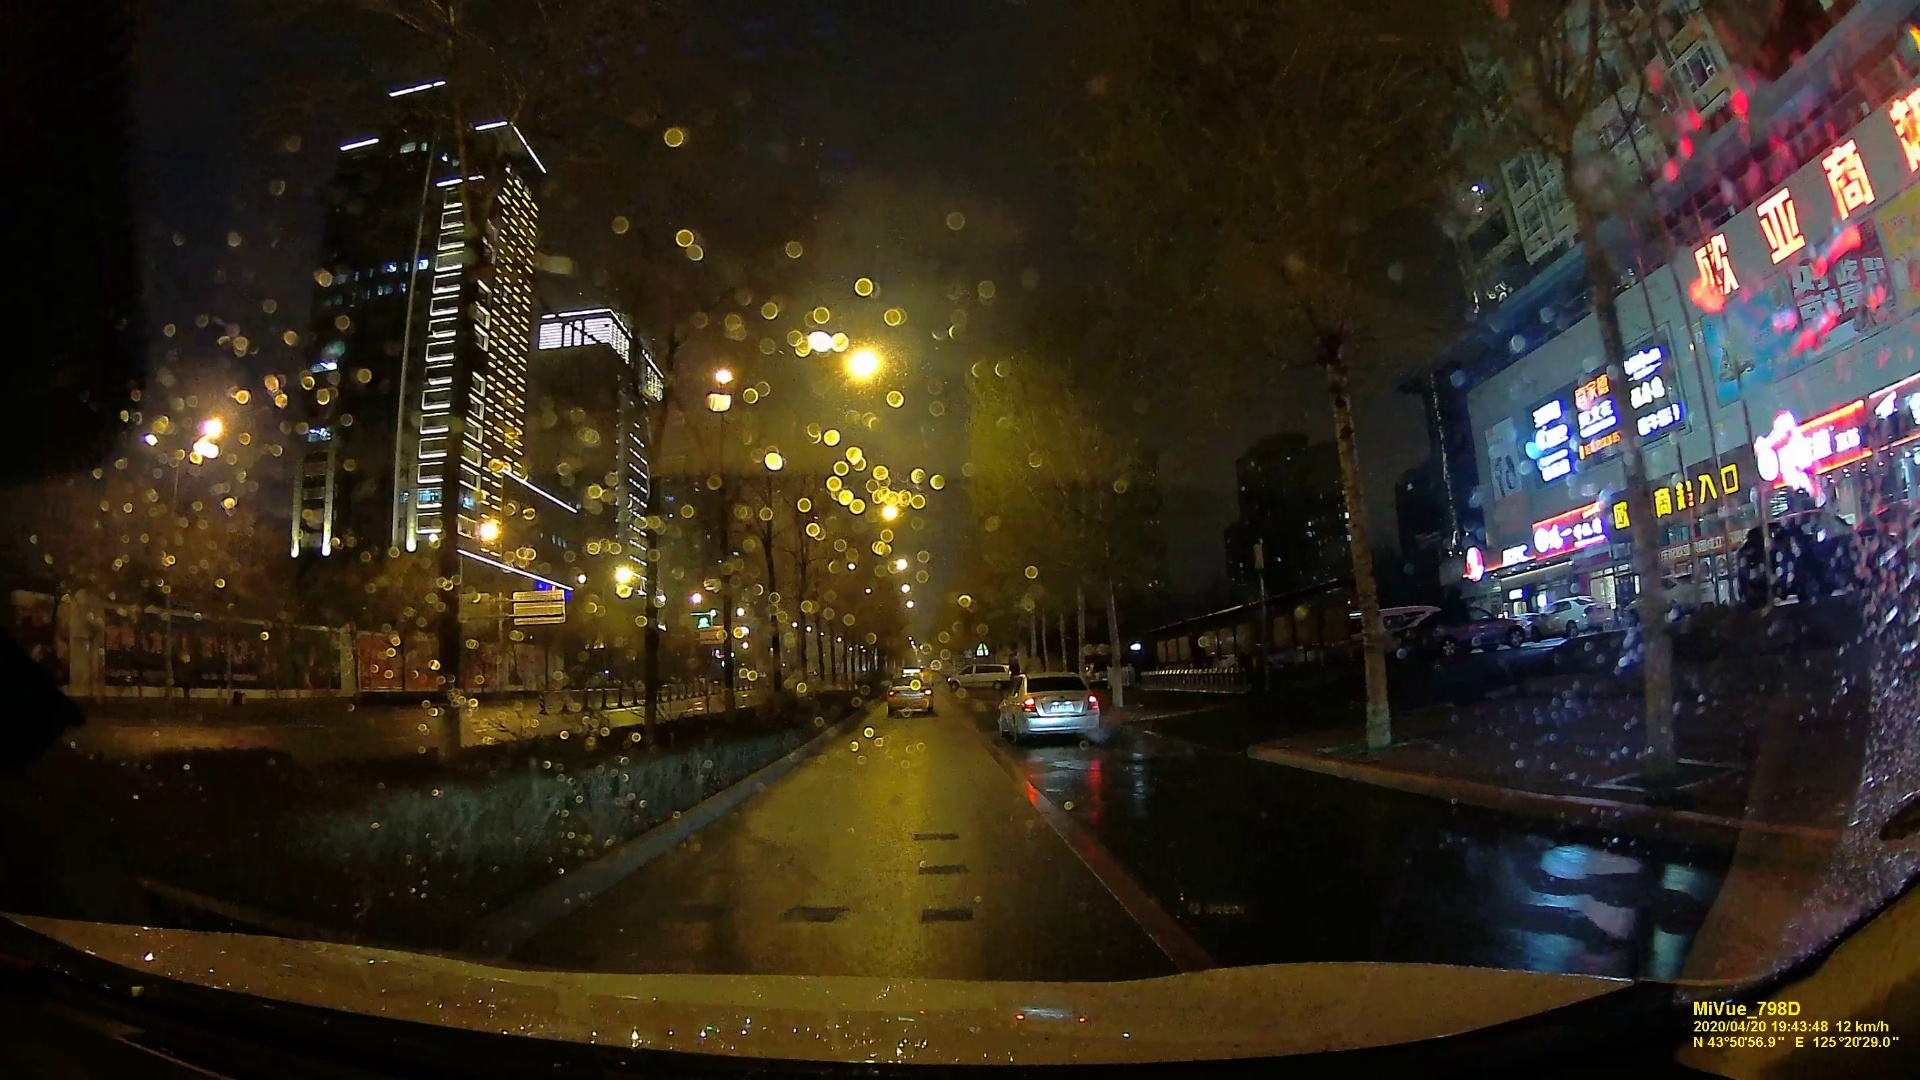vehicle: (996, 673, 1102, 746), (885, 680, 931, 716)
